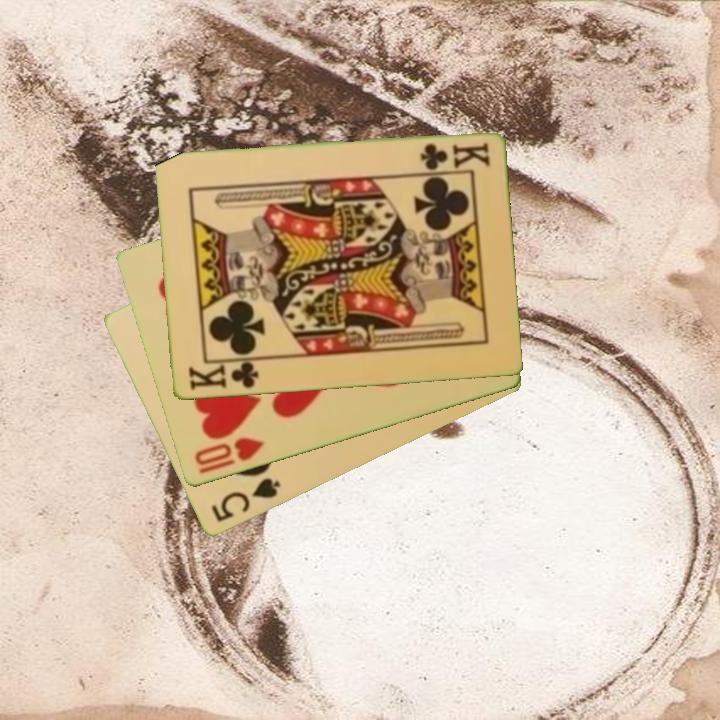10h: (190, 434, 267, 478)
5s: (207, 474, 284, 525)
Kc: (184, 356, 263, 394), (416, 139, 492, 172)
